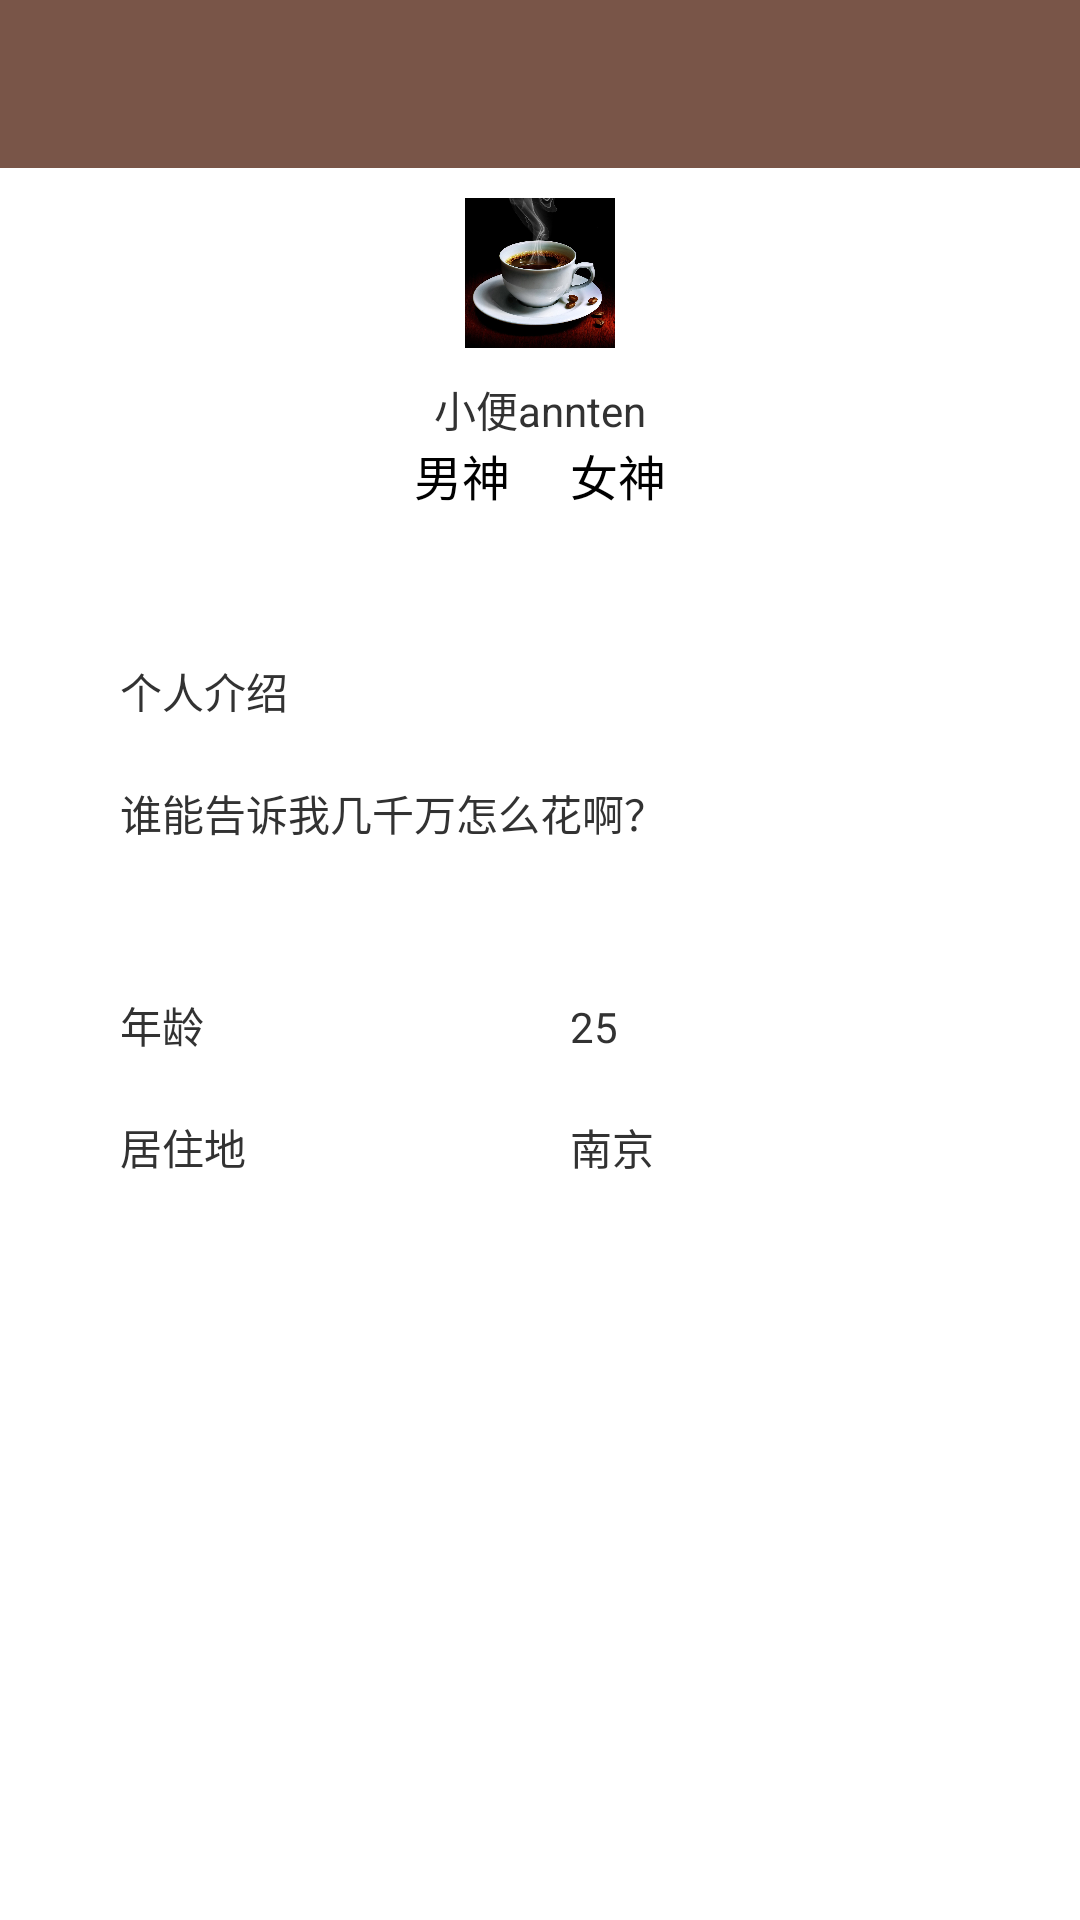

Named icons in this screenshot (1080x1920) and their bounding boxes, (x1, y1, x2, y2):
coffee: (465, 198, 615, 348)
